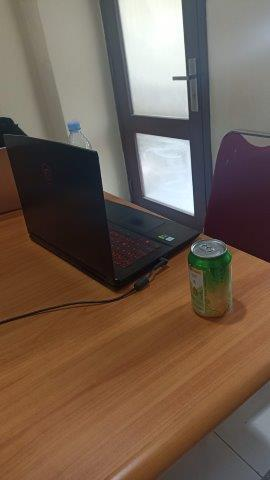kaleng: (188, 241, 233, 318)
